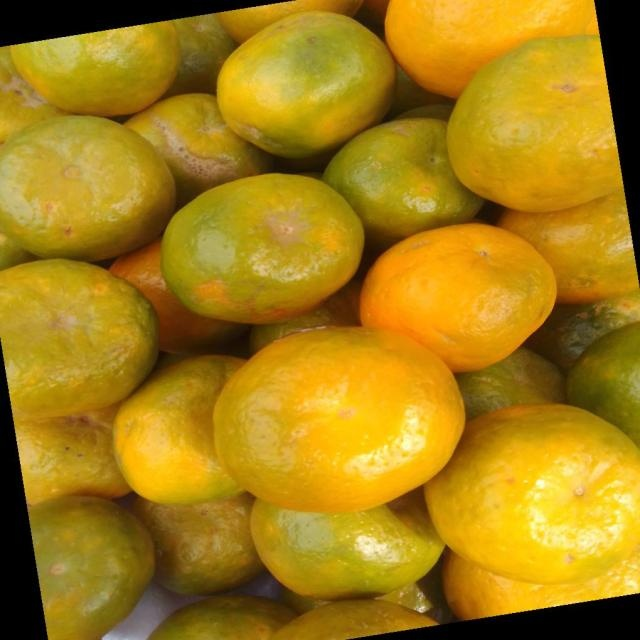agrume: (0, 1, 637, 637), (212, 324, 466, 514), (424, 401, 639, 584), (445, 33, 622, 213), (160, 171, 364, 325), (358, 221, 557, 373), (216, 10, 396, 159), (1, 115, 175, 262), (4, 260, 161, 421), (111, 356, 253, 506), (383, 0, 598, 99), (324, 117, 485, 247), (27, 496, 153, 637), (127, 95, 269, 209), (111, 236, 251, 351), (499, 187, 633, 304), (11, 24, 177, 117), (133, 495, 264, 595), (15, 404, 132, 508), (217, 1, 363, 44), (164, 15, 238, 97)
